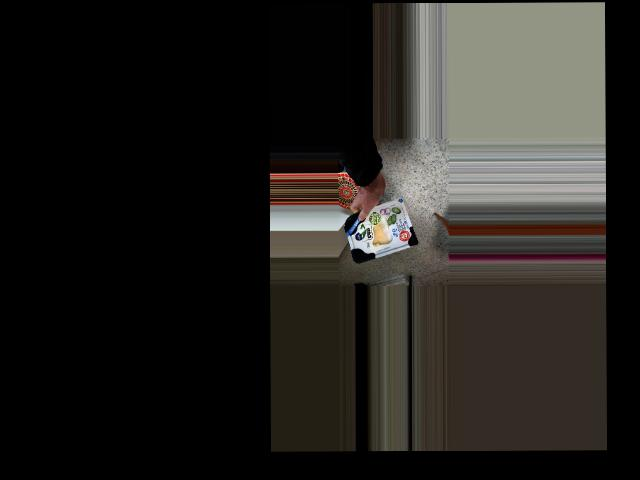cheese: (343, 199, 418, 264)
